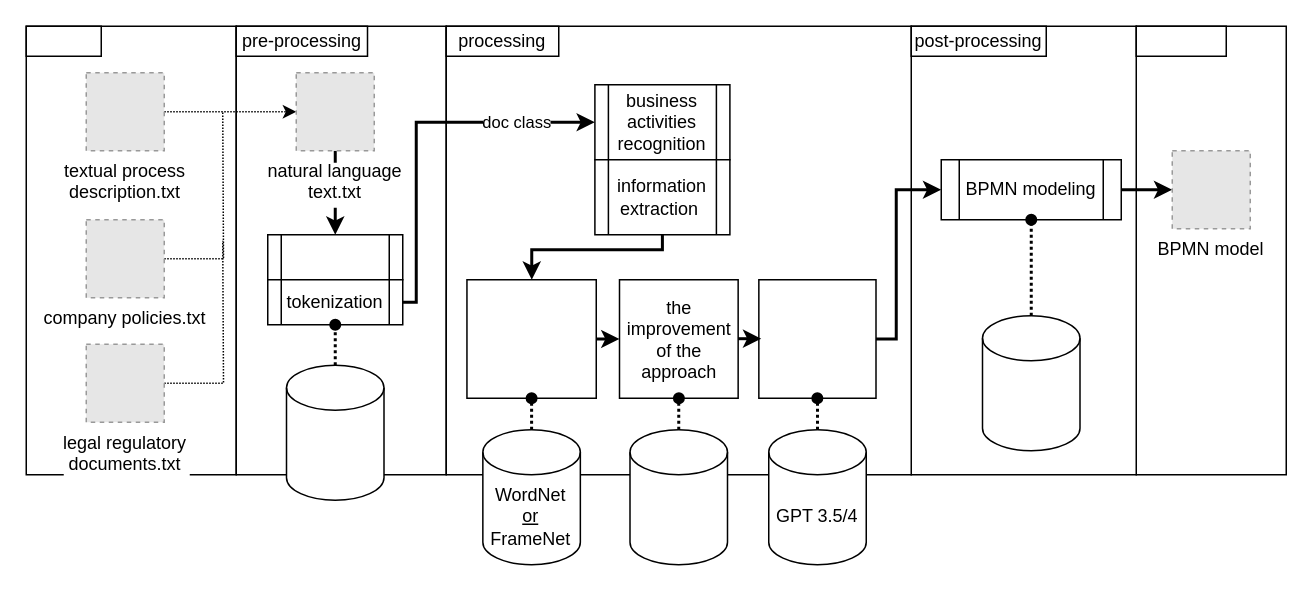
Some shapes in this 1313 by 591 pixel diagram are drawn without their labels. Grey dashed boxes stand in for pictures. The centre of each missing label's shape, as x and y in pixels:
"BPMN library" goes at point 1030,382.
"comparison the approach with LLM models" goes at point 816,338.
"current state of the art with python implementation" goes at point 530,338.
"input" goes at point 63,40.
"output" goes at point 1180,40.
"POS tagging" goes at point 334,256.
"spacy + extraction rules" goes at point 678,496.
"Spacy or Stanford parser" goes at point 334,432.
